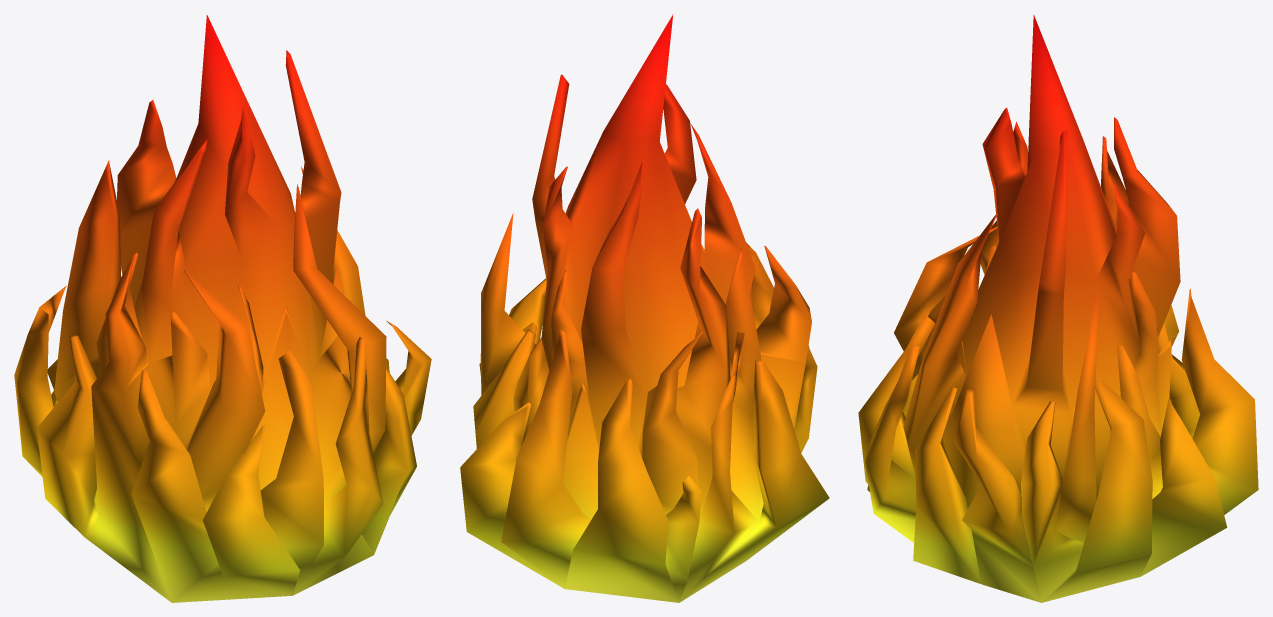
Rendered from Fire.obj.
3 renders of one model, left to right at view 1: azimuth 30°, elevation 25°; view 2: azimuth 150°, elevation 25°; view 3: azimuth 270°, elevation 25°, orthographic. The views are drawn at different scales.
Parts seen in each view (by area): view 1: ICO球; view 2: ICO球; view 3: ICO球.
Part boxes in pixels (<box>): ICO球: <box>14,15,431,602</box>; ICO球: <box>460,14,829,602</box>; ICO球: <box>858,14,1258,602</box>.
Size of the model in its own units: 1.69 by 2.66 by 1.78.
1 material, 1 textured.
